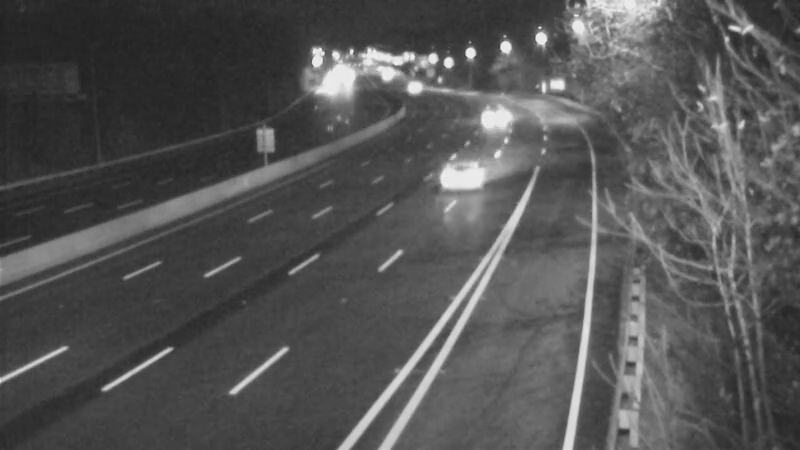vehicle: (419, 139, 499, 219), (386, 65, 436, 115), (464, 93, 514, 143)
